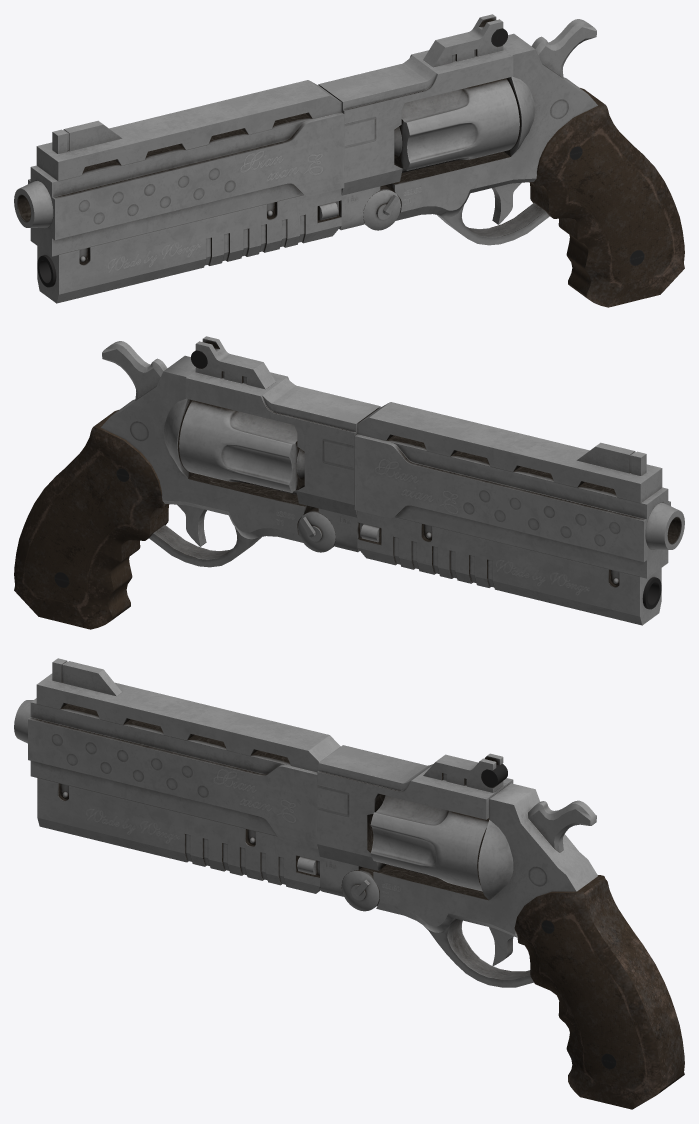
The model's file is _3dModel.glb.
The picture shows the model from 3 angles, top to bottom: view 1: azimuth 30°, elevation 25°; view 2: azimuth 150°, elevation 25°; view 3: azimuth 330°, elevation 25°; orthographic projection.
Parts seen in each view (by area): view 1: Object_3, Object_4; view 2: Object_3, Object_4; view 3: Object_3, Object_4.
Boxes of the visible parts, <box> form: Object_3: <box>14,14,680,303</box>; Object_4: <box>17,16,684,307</box>; Object_3: <box>18,336,684,625</box>; Object_4: <box>14,338,681,629</box>; Object_3: <box>28,658,684,1094</box>; Object_4: <box>14,661,684,1109</box>.
Bounding box in the file's own units: 3.42 × 1.52 × 0.3997.
1 material, 1 textured.
